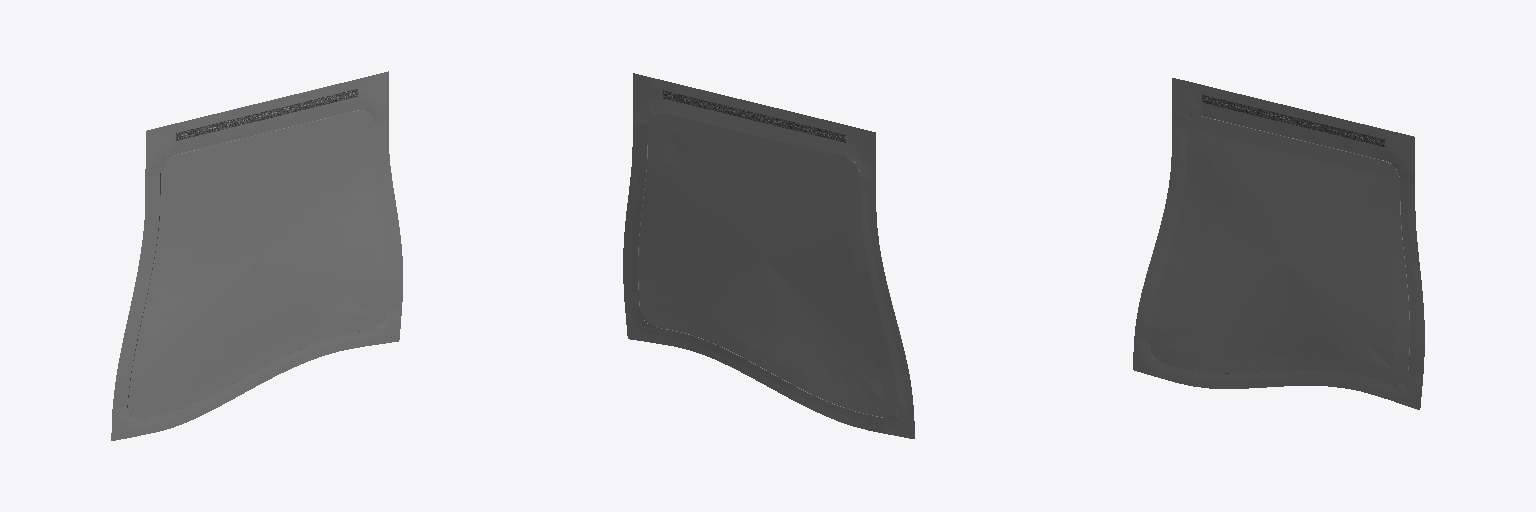
3 renders of one model, left to right at view 1: azimuth 30°, elevation 25°; view 2: azimuth 150°, elevation 25°; view 3: azimuth 330°, elevation 25°, orthographic.
Parts seen in each view (by area): view 1: block2; view 2: block2; view 3: block2.
Part boxes in pixels (left/top/right/bottom): block2: left=111, top=71, right=402, bottom=440; block2: left=623, top=73, right=914, bottom=438; block2: left=1133, top=78, right=1424, bottom=409.
Size of the model in its own units: 96.07 by 94.93 by 1.8.
Materials: 4 (1 with a texture image).